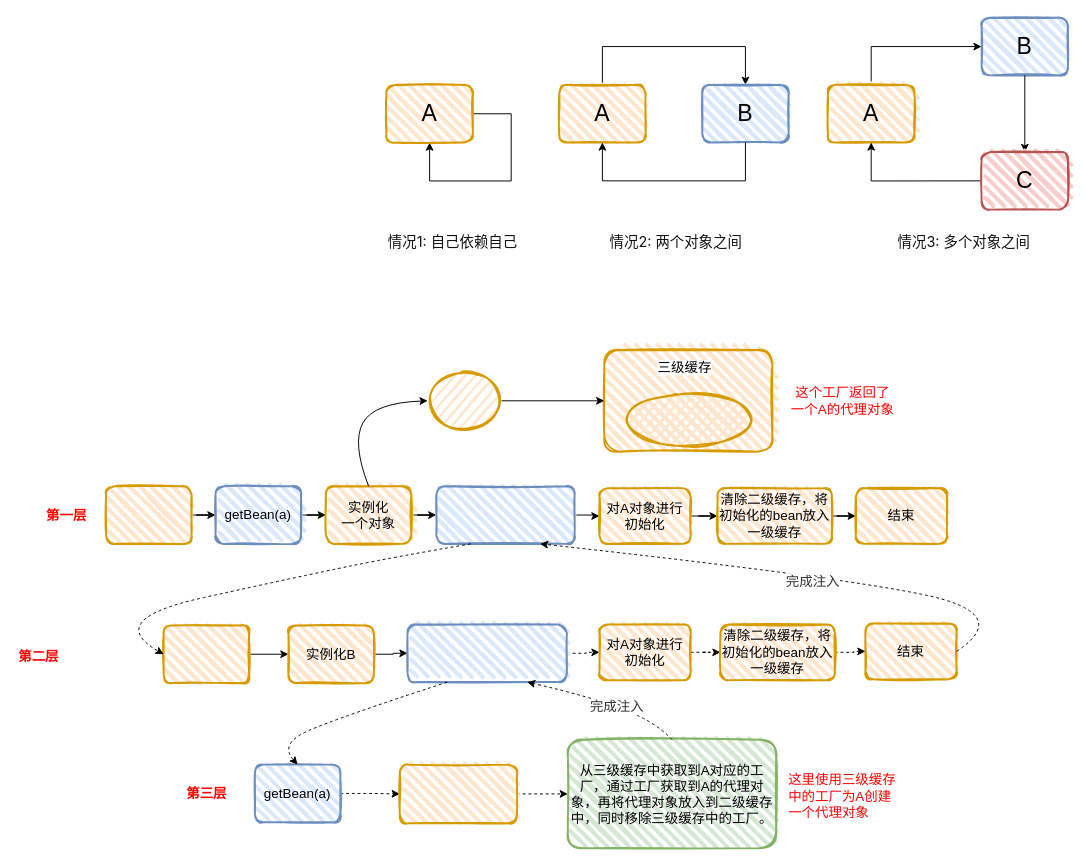
The diagram is 1085 pixels wide and 865 high, and some of its shapes have lost their labels. The shapes that lost their labels are listed below. From the top down, each one's centre as x and y in pixels, then its label:
At pixel 464 400: "A对象".
At pixel 689 419: "获取A代理 对象的工厂".
At pixel 148 514: "创建A".
At pixel 505 514: "属性注入，调用getBean(b)".
At pixel 206 654: "创建B".
At pixel 486 653: "属性注入，调用getBean(a)".
At pixel 457 793: "从缓存中获取到A的代理对象".
